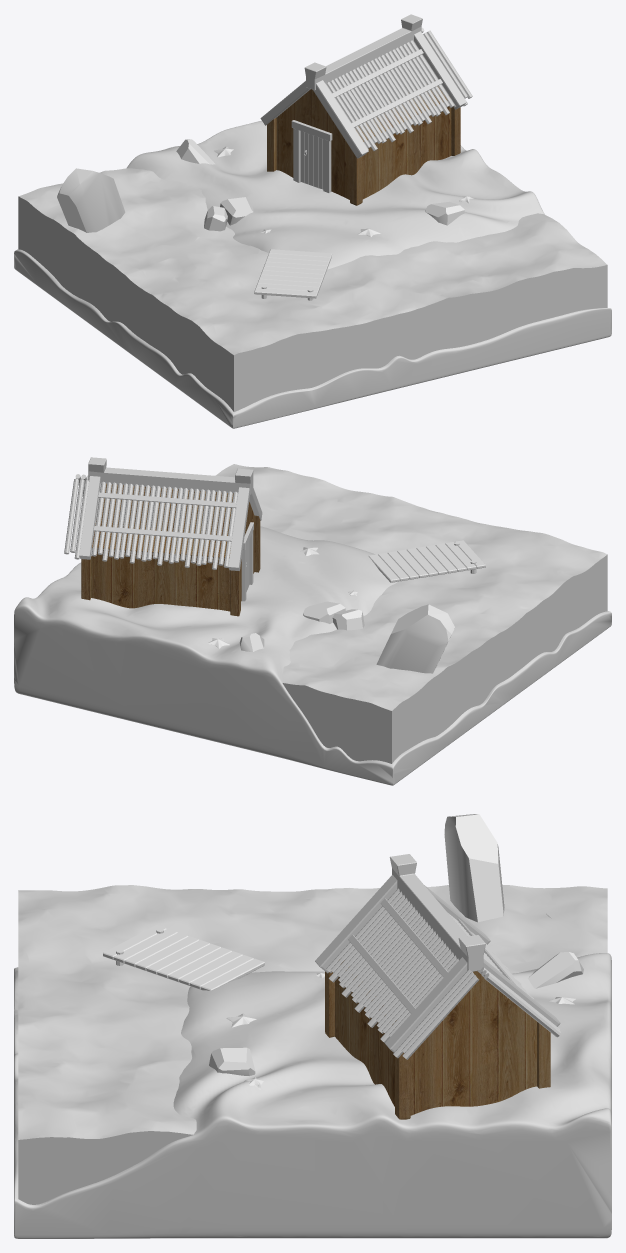
File: house_web.gltf
The picture shows the model from 3 angles, top to bottom: view 1: azimuth 30°, elevation 25°; view 2: azimuth 150°, elevation 25°; view 3: azimuth 270°, elevation 25°; orthographic projection. The views are drawn at different scales.
Visible parts, largest first — view 1: water, beach, roof, walls, stone, prichal, door; view 2: beach, water, roof, walls, stone, prichal, door; view 3: beach, water, roof, walls, stone, prichal.
Part boxes in pixels (left/top/right/bottom): water: left=18, top=168, right=607, bottom=411; beach: left=14, top=120, right=611, bottom=428; roof: left=260, top=14, right=472, bottom=158; walls: left=267, top=86, right=460, bottom=205; stone: left=57, top=139, right=464, bottom=232; prichal: left=254, top=249, right=332, bottom=300; door: left=291, top=120, right=332, bottom=192; beach: left=14, top=526, right=611, bottom=785; water: left=215, top=464, right=607, bottom=763; roof: left=64, top=457, right=262, bottom=570; walls: left=81, top=483, right=260, bottom=616; stone: left=239, top=601, right=454, bottom=673; prichal: left=368, top=540, right=485, bottom=582; door: left=241, top=522, right=253, bottom=601; beach: left=14, top=953, right=611, bottom=1238; water: left=18, top=885, right=607, bottom=1238; roof: left=315, top=854, right=560, bottom=1059; walls: left=325, top=959, right=550, bottom=1119; stone: left=209, top=814, right=583, bottom=1075; prichal: left=103, top=925, right=264, bottom=990.
Bounding box in the file's own units: 2.09 × 1.04 × 2.03.
5 materials, 1 textured.
